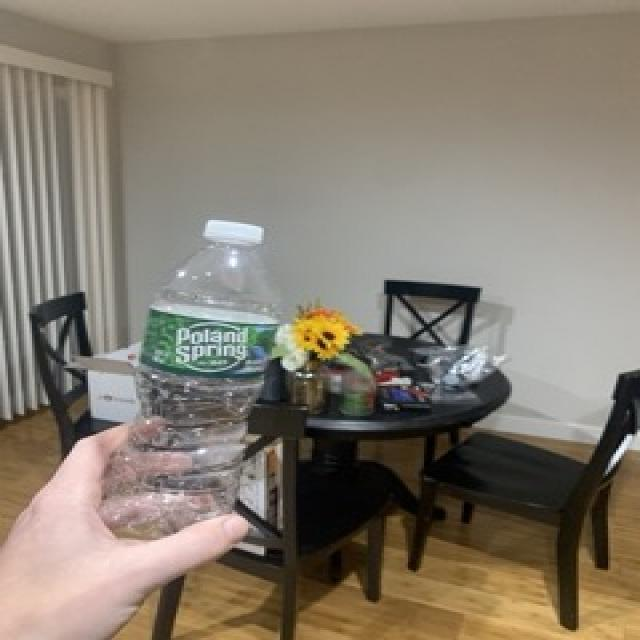water_bottle: (96, 216, 280, 548)
